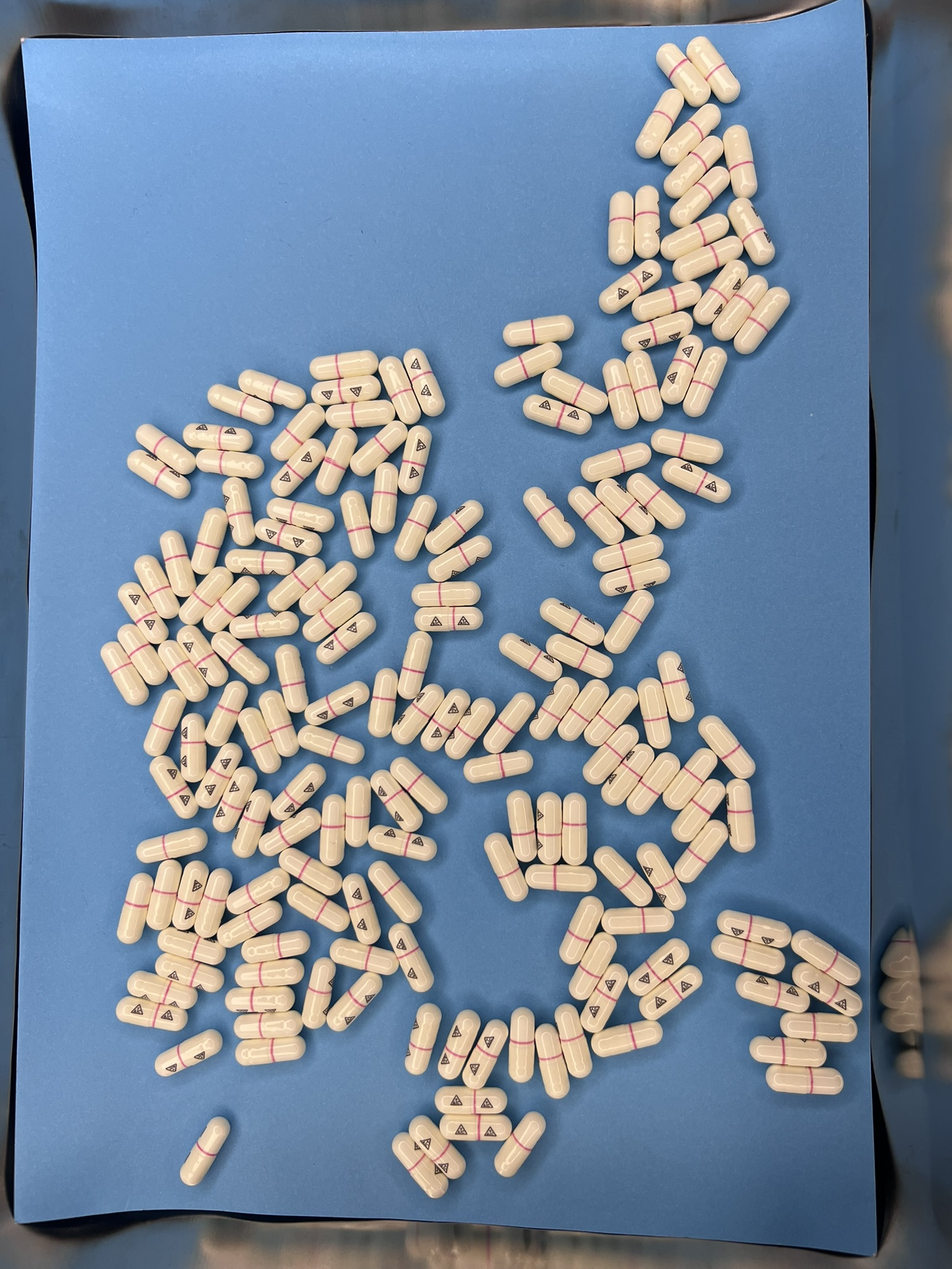Capsule: (710, 273, 769, 343), (791, 930, 863, 987), (659, 104, 720, 171), (392, 1130, 450, 1200), (406, 1116, 463, 1185), (369, 862, 425, 932), (669, 165, 731, 228), (694, 261, 751, 328), (789, 962, 861, 1015), (371, 767, 426, 836), (663, 141, 724, 203), (594, 846, 653, 910), (699, 714, 757, 779), (599, 741, 654, 809), (736, 286, 791, 354), (657, 41, 711, 110), (180, 1116, 231, 1189), (581, 723, 641, 785), (686, 35, 740, 103), (662, 747, 719, 811), (671, 778, 727, 843), (626, 752, 681, 818), (132, 422, 198, 477), (116, 580, 172, 644), (583, 688, 638, 753), (674, 819, 729, 884), (638, 966, 704, 1020), (210, 765, 260, 836), (268, 763, 328, 822), (390, 754, 449, 814), (495, 1110, 547, 1178), (596, 479, 658, 536), (328, 970, 384, 1033), (523, 486, 578, 550), (568, 933, 619, 1002), (267, 556, 328, 613), (298, 559, 359, 616), (579, 963, 629, 1032), (634, 90, 683, 160), (202, 575, 261, 633), (424, 500, 484, 557), (180, 568, 235, 630), (302, 589, 365, 643), (154, 1028, 222, 1078), (277, 847, 343, 898), (627, 473, 687, 529), (599, 260, 660, 315), (628, 939, 690, 993), (148, 755, 201, 818), (195, 742, 244, 810), (663, 212, 731, 261), (602, 592, 654, 656), (570, 484, 625, 544), (157, 641, 211, 702), (316, 612, 378, 665), (669, 236, 736, 285), (541, 366, 608, 415), (390, 924, 436, 995), (213, 626, 269, 684), (350, 420, 406, 478), (272, 404, 327, 463), (710, 935, 785, 978), (259, 806, 322, 857), (450, 695, 499, 760), (424, 689, 472, 755), (629, 282, 699, 327), (127, 449, 190, 499), (438, 1010, 481, 1083), (492, 342, 563, 386), (142, 689, 187, 758), (729, 196, 774, 265), (546, 634, 612, 681), (134, 555, 181, 621), (484, 696, 534, 758), (178, 624, 228, 686), (621, 310, 693, 353), (394, 685, 443, 748), (684, 347, 728, 417), (126, 970, 201, 1011), (427, 535, 491, 583), (100, 640, 148, 704), (217, 902, 282, 949), (484, 834, 527, 905), (116, 622, 166, 683), (662, 457, 728, 503), (287, 884, 350, 932), (274, 437, 327, 494), (636, 845, 683, 909), (592, 533, 663, 575), (225, 870, 287, 918), (230, 789, 273, 858), (395, 487, 435, 561), (464, 1016, 505, 1088), (719, 910, 791, 951), (737, 970, 807, 1012), (562, 680, 611, 740), (555, 1005, 591, 1086), (599, 557, 670, 598), (158, 929, 227, 971), (205, 681, 248, 748), (306, 681, 370, 726), (531, 678, 579, 738), (560, 898, 602, 966), (593, 1018, 664, 1058), (342, 872, 382, 943), (207, 384, 278, 424), (380, 356, 422, 423), (663, 338, 705, 405), (193, 868, 233, 938), (316, 428, 358, 494), (581, 443, 652, 482), (535, 1018, 570, 1097), (155, 952, 222, 993), (302, 958, 340, 1030), (602, 359, 640, 430), (522, 398, 591, 437), (237, 707, 279, 771), (259, 691, 299, 758), (238, 369, 305, 409), (721, 124, 757, 198), (117, 872, 154, 944), (254, 518, 322, 557), (368, 824, 437, 862), (329, 938, 398, 976), (172, 863, 211, 930), (765, 1063, 844, 1096), (539, 598, 601, 640), (405, 349, 447, 411), (405, 1003, 441, 1075), (146, 860, 183, 930), (265, 497, 335, 534), (138, 827, 208, 864), (115, 996, 189, 1031), (781, 1011, 859, 1044), (651, 428, 722, 464), (159, 530, 196, 599), (299, 727, 366, 765), (192, 507, 229, 575), (398, 632, 434, 701), (500, 634, 555, 679), (275, 644, 310, 714), (237, 930, 305, 966), (509, 1009, 539, 1090), (660, 655, 695, 724), (626, 352, 662, 419), (396, 425, 432, 492), (506, 792, 539, 864), (341, 491, 376, 558), (464, 750, 531, 785), (434, 1084, 509, 1115), (751, 1036, 825, 1067), (725, 778, 756, 852), (638, 679, 671, 748), (602, 905, 673, 937), (223, 478, 256, 545), (235, 1036, 306, 1067), (309, 350, 379, 381), (525, 864, 597, 894), (503, 316, 575, 346), (369, 668, 399, 739), (325, 399, 396, 429), (440, 1112, 511, 1142), (371, 463, 400, 536), (344, 776, 372, 851), (196, 448, 263, 479), (228, 549, 297, 579), (184, 423, 253, 453), (412, 580, 483, 609), (634, 186, 661, 262), (313, 377, 381, 407), (236, 1010, 304, 1040), (234, 958, 301, 988), (608, 190, 634, 266), (231, 612, 299, 641), (562, 792, 589, 865), (226, 986, 296, 1014), (536, 793, 563, 863), (415, 605, 482, 633), (180, 713, 208, 779), (321, 794, 347, 865)
